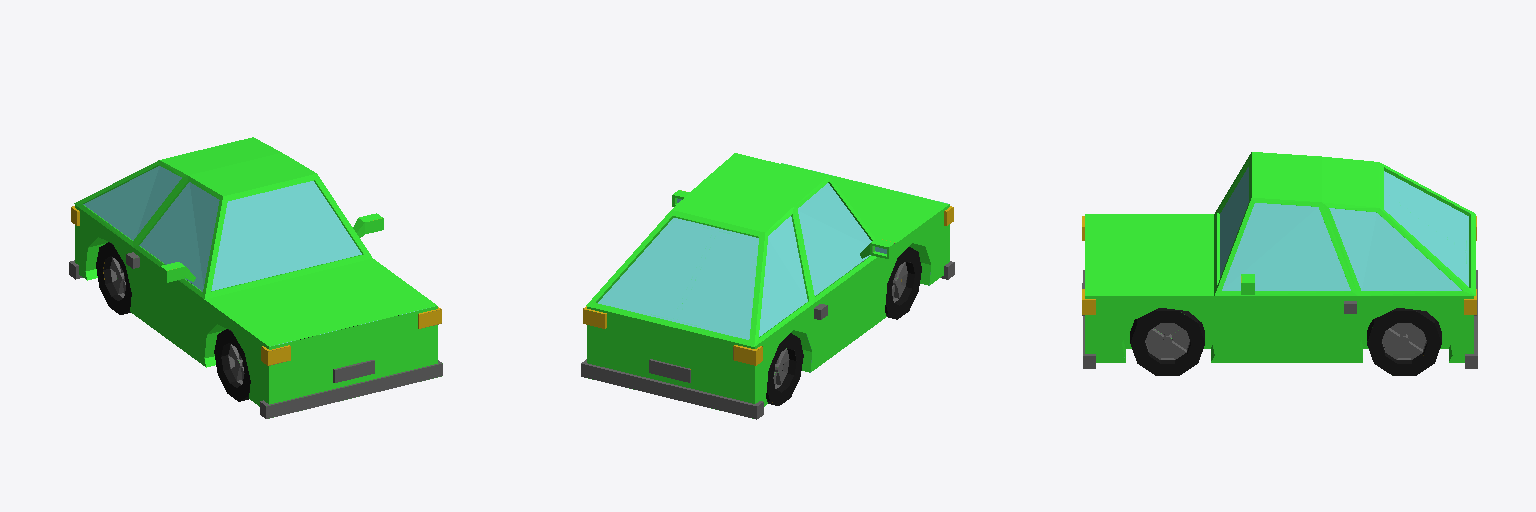
The picture shows the model from 3 angles: view 1: azimuth 30°, elevation 25°; view 2: azimuth 150°, elevation 25°; view 3: azimuth 270°, elevation 25°; orthographic projection.
Bounding box in the file's own units: 2.68 × 1.92 × 4.24.
Materials: 1 (1 with a texture image).